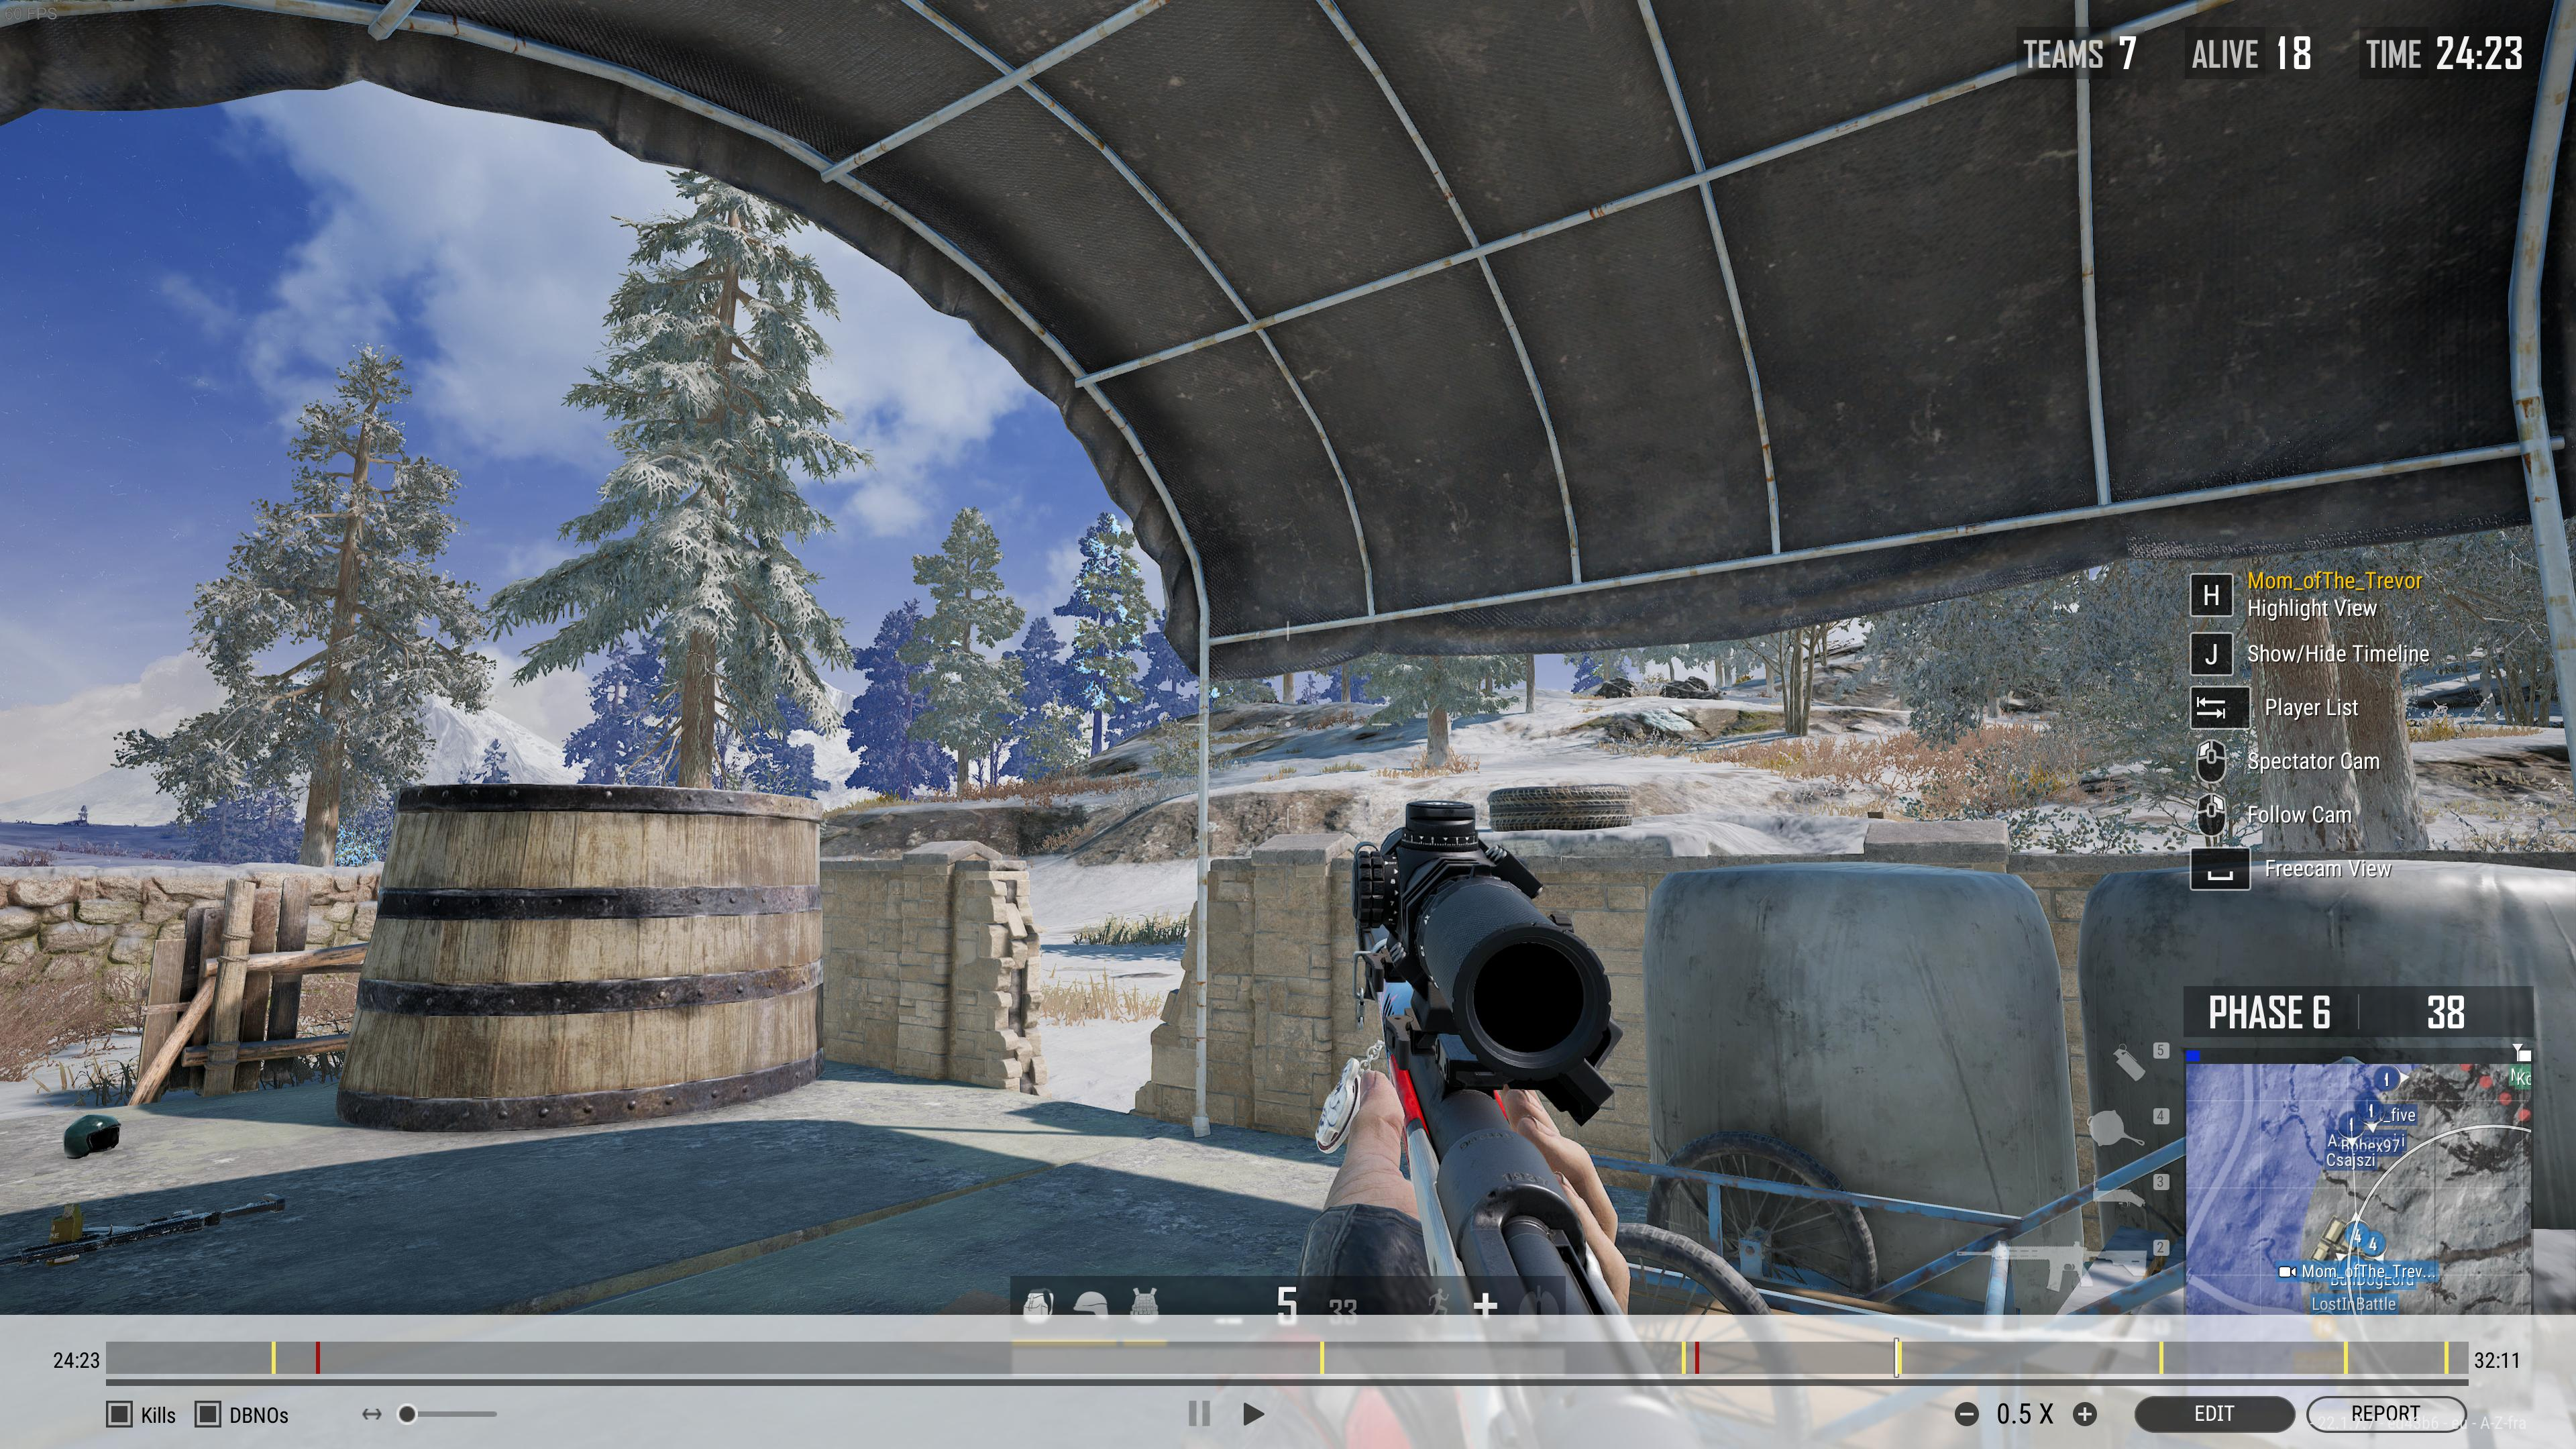enemy: (1300, 699, 1306, 704)
